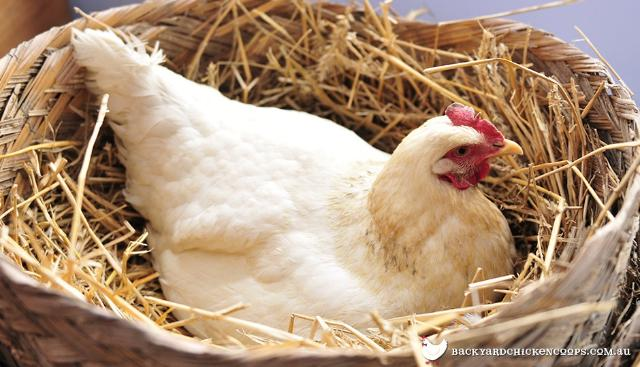Chicken: (70, 27, 523, 346)
